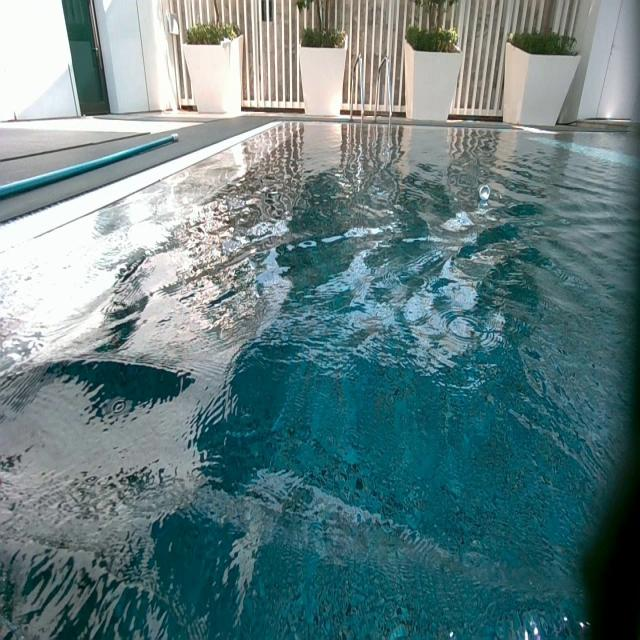Cans: (480, 184, 491, 201)
